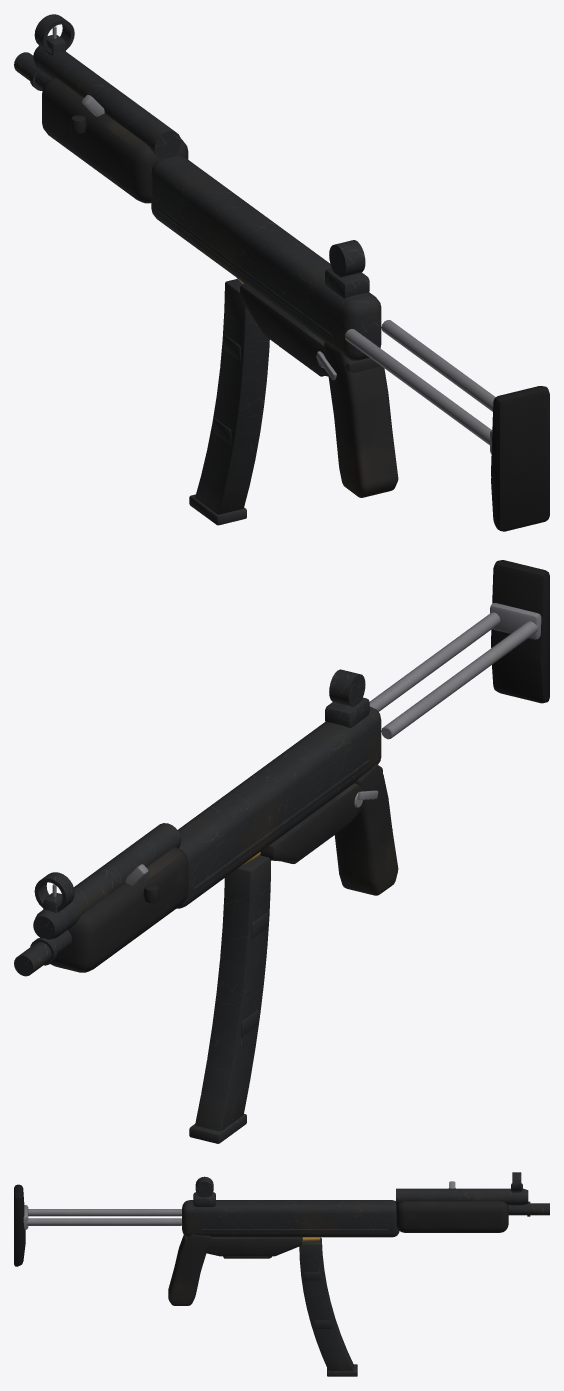
The model's file is SMG.glb.
3 renders of one model, top to bottom at view 1: azimuth 30°, elevation 25°; view 2: azimuth 150°, elevation 25°; view 3: azimuth 270°, elevation 25°, orthographic. The views are drawn at different scales.
Visible parts, largest first — view 1: SMG_Body, SMG_Magazine; view 2: SMG_Body, SMG_Magazine; view 3: SMG_Body, SMG_Magazine.
Part boxes in pixels (box(x1,y1,x2,y2)): SMG_Body: box(14, 14, 549, 531); SMG_Magazine: box(189, 277, 269, 525); SMG_Body: box(14, 560, 549, 976); SMG_Magazine: box(189, 852, 270, 1143); SMG_Body: box(14, 1172, 549, 1305); SMG_Magazine: box(299, 1237, 357, 1376).
Size of the model in its own units: 0.058 by 0.294 by 0.714.
5 materials, 5 textured.
